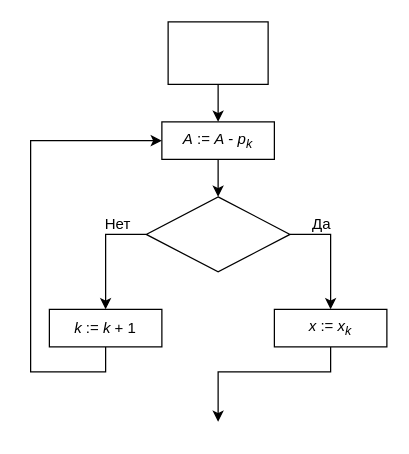
Image size: 409x454. Some labels were removed from this diagram. The box of each missing label's shape, as (x1, y1, x2, y2) in pixels:
A ≤ 0: (145, 196, 290, 272)
А := α; k := 1: (167, 21, 268, 84)
